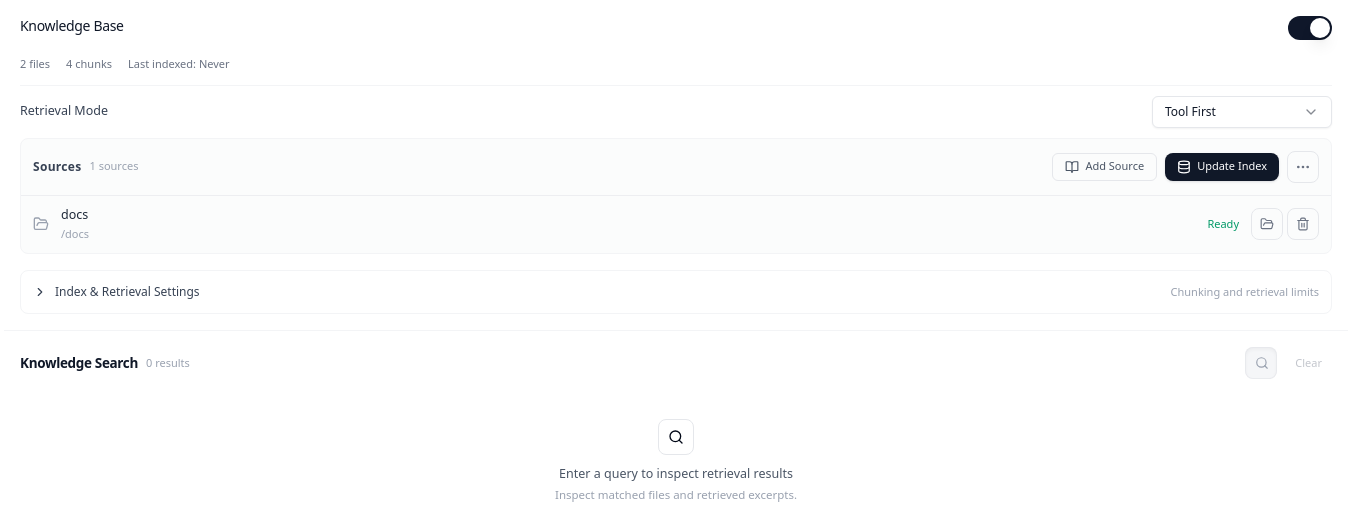
Test: ignores an in-flight response after clearing the query
Replace the text in the field with placeholder "Search indexed documents..." with "session" at (1289, 363), box [1245,347,1332,379]
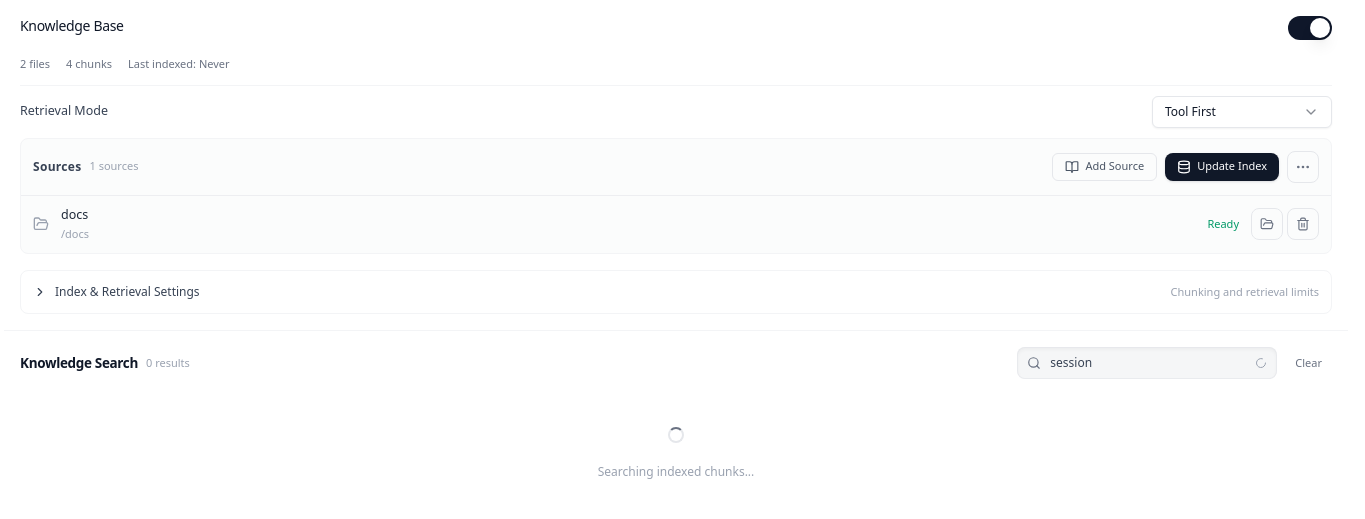
Click the button "Clear".
click(1309, 363)  # box [1285,347,1332,379]
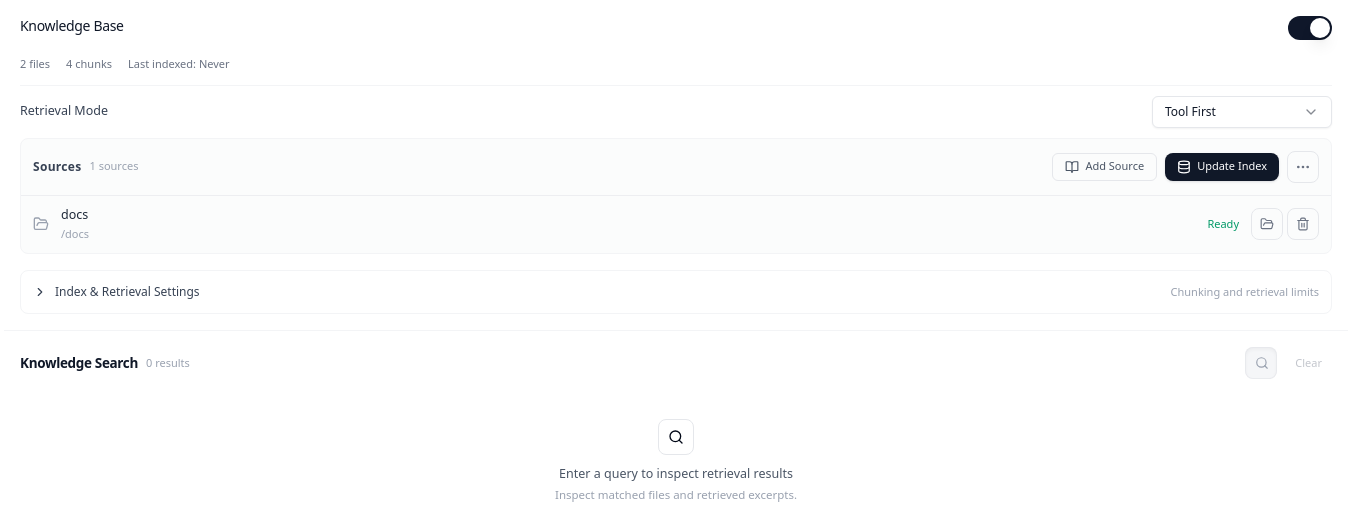
Expected: the text "Enter a query to inspect retrieval results" is shown, [555,465,797,484]
